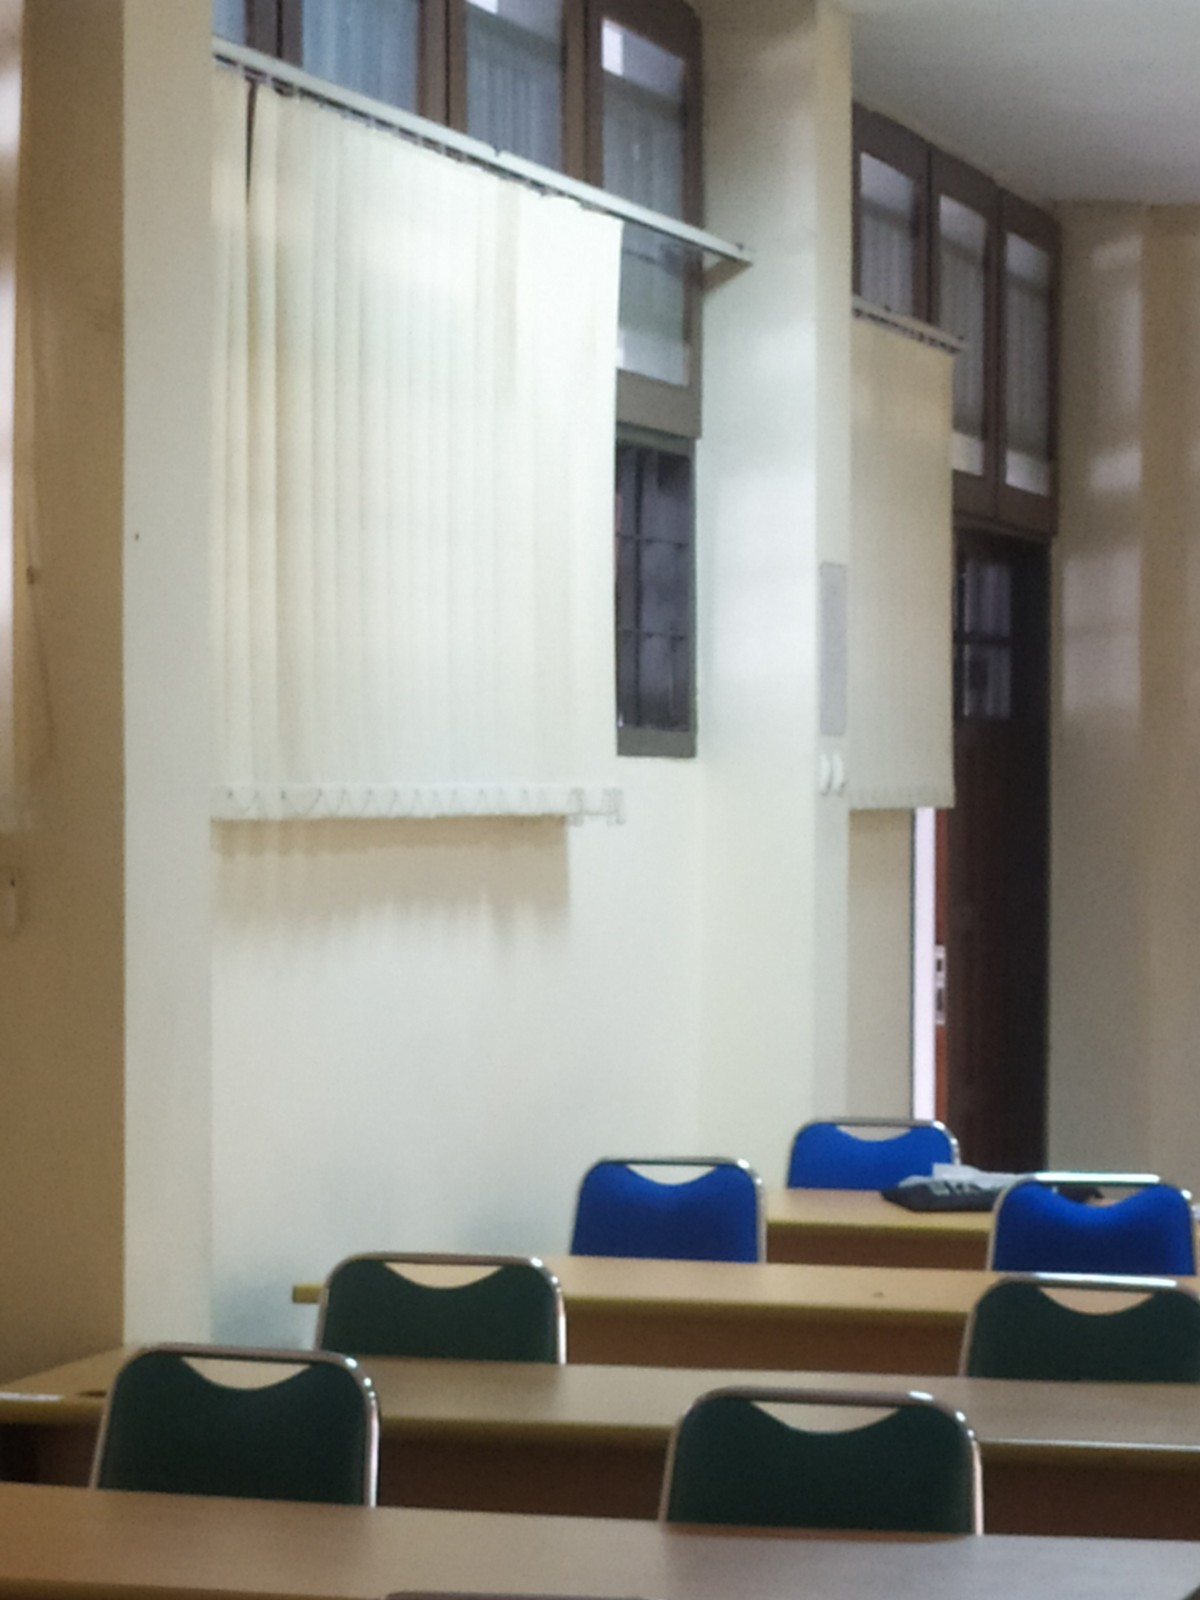concrete column: (13, 3, 239, 1343), (676, 5, 871, 1155), (1054, 193, 1177, 1180)
